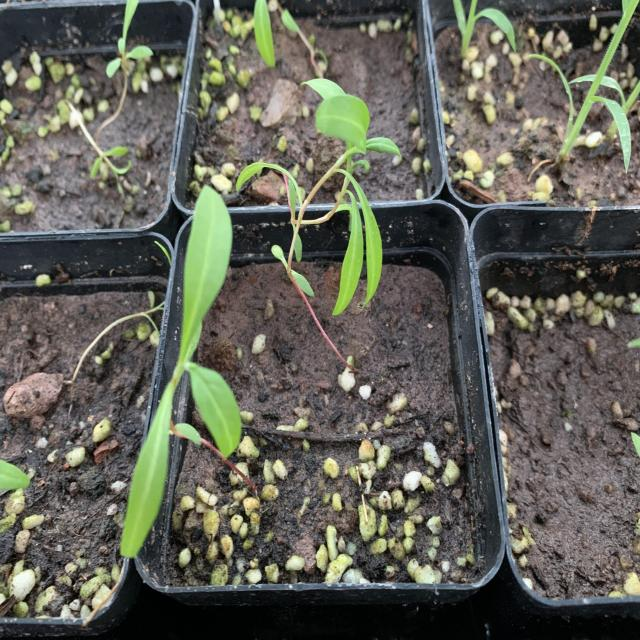white_smart_weed: (80, 165, 292, 564)
